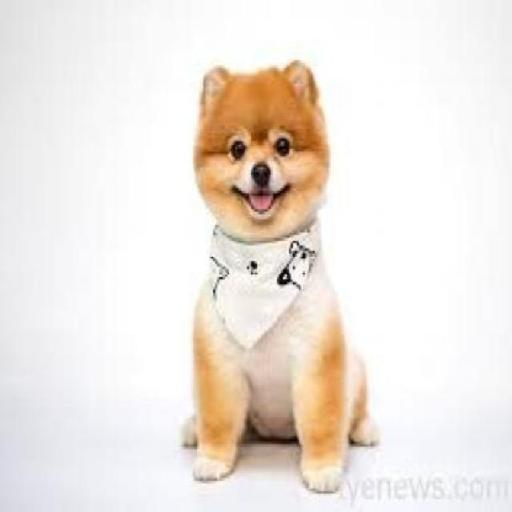Dog: (194, 82, 382, 490)
